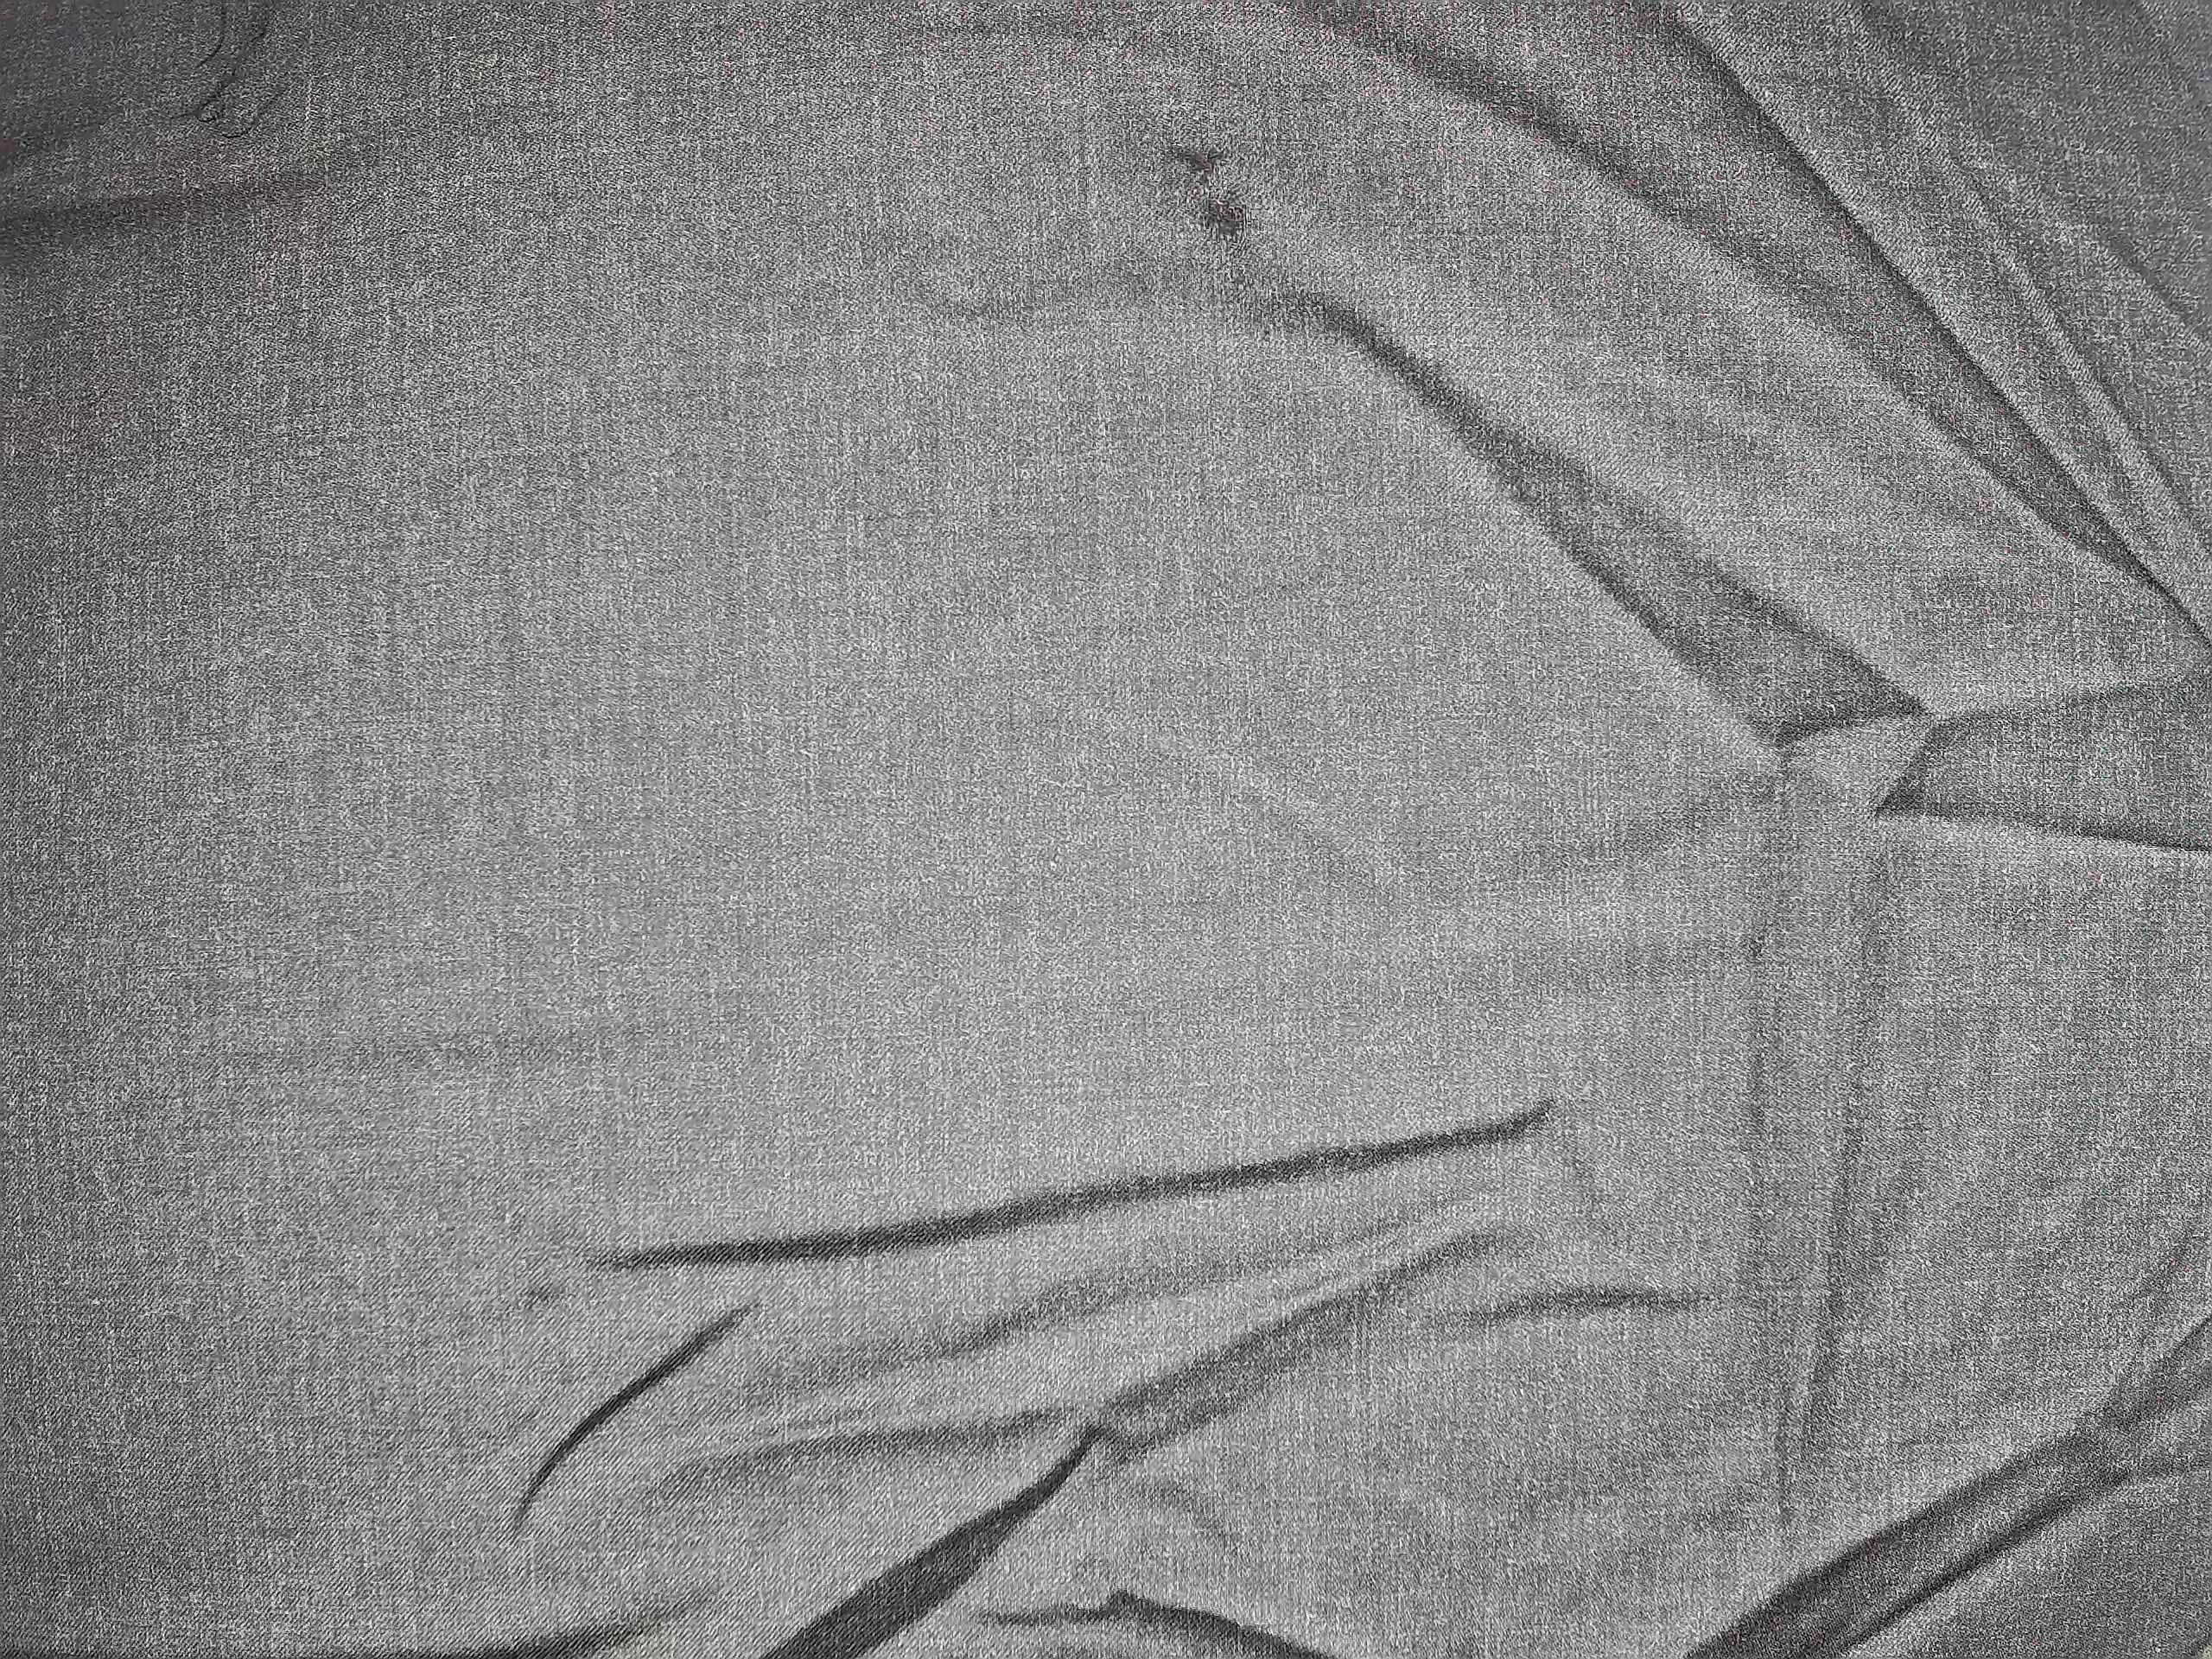rubbing-hole: (1153, 129, 1275, 263)
